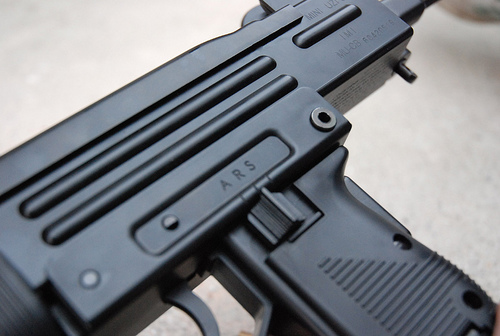pistol: (3, 4, 435, 336)
